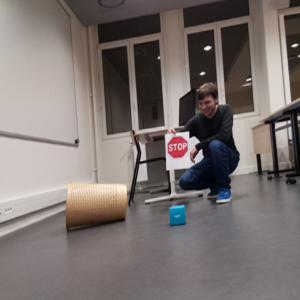medium: (65, 181, 127, 226)
small: (169, 205, 187, 225)
